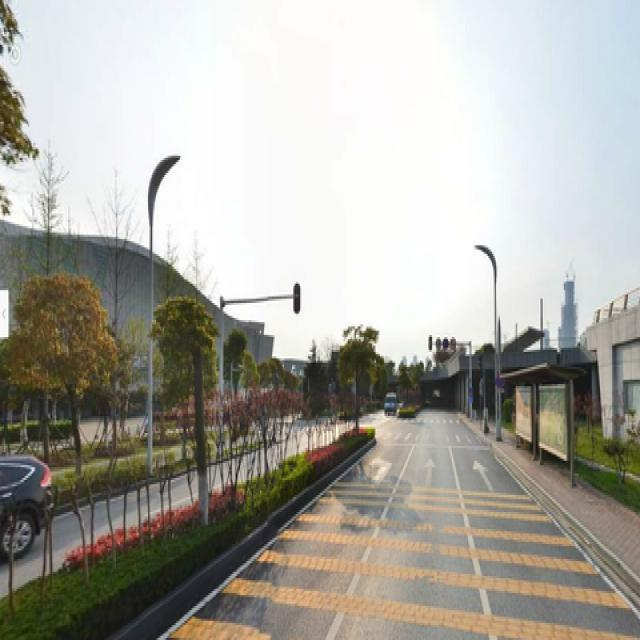cinn: (28, 279, 99, 476), (157, 303, 204, 480)
